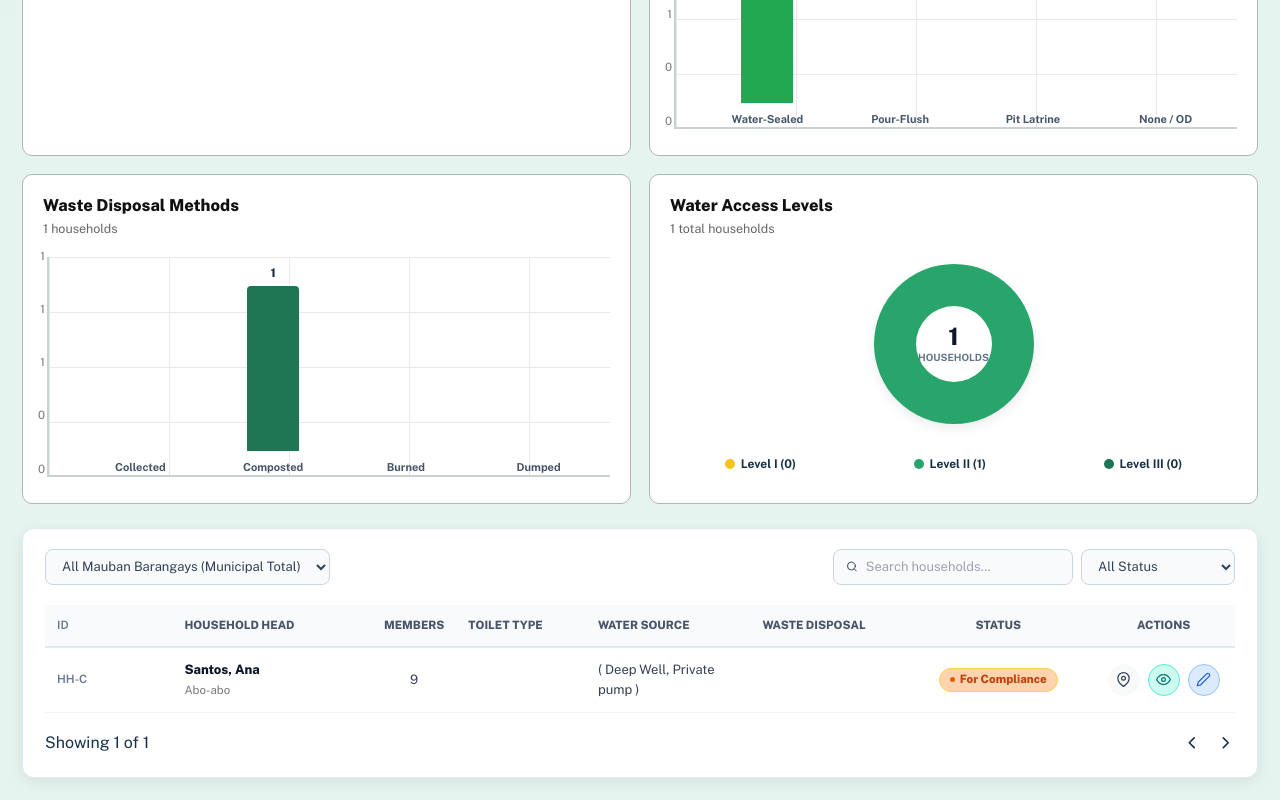
legacy water_sealed applicable transition requires replacement
The width and height of the screenshot is (1280, 800).
(page scrolled)
Click the button titled "Edit Household Record": x=1204, y=680 [1188,664,1220,696]
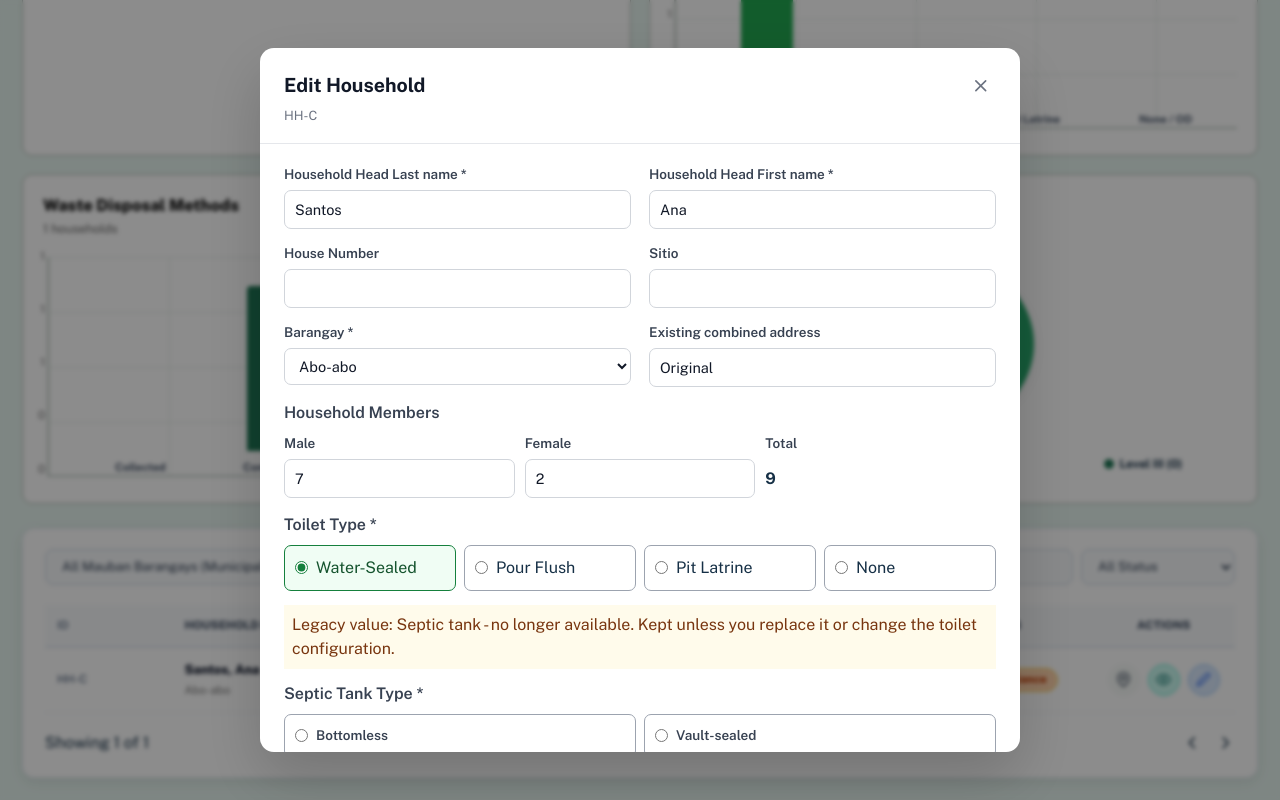
Click the radio button labelled "Pour Flush": x=482, y=568 [475,561,488,574]
(page scrolled)
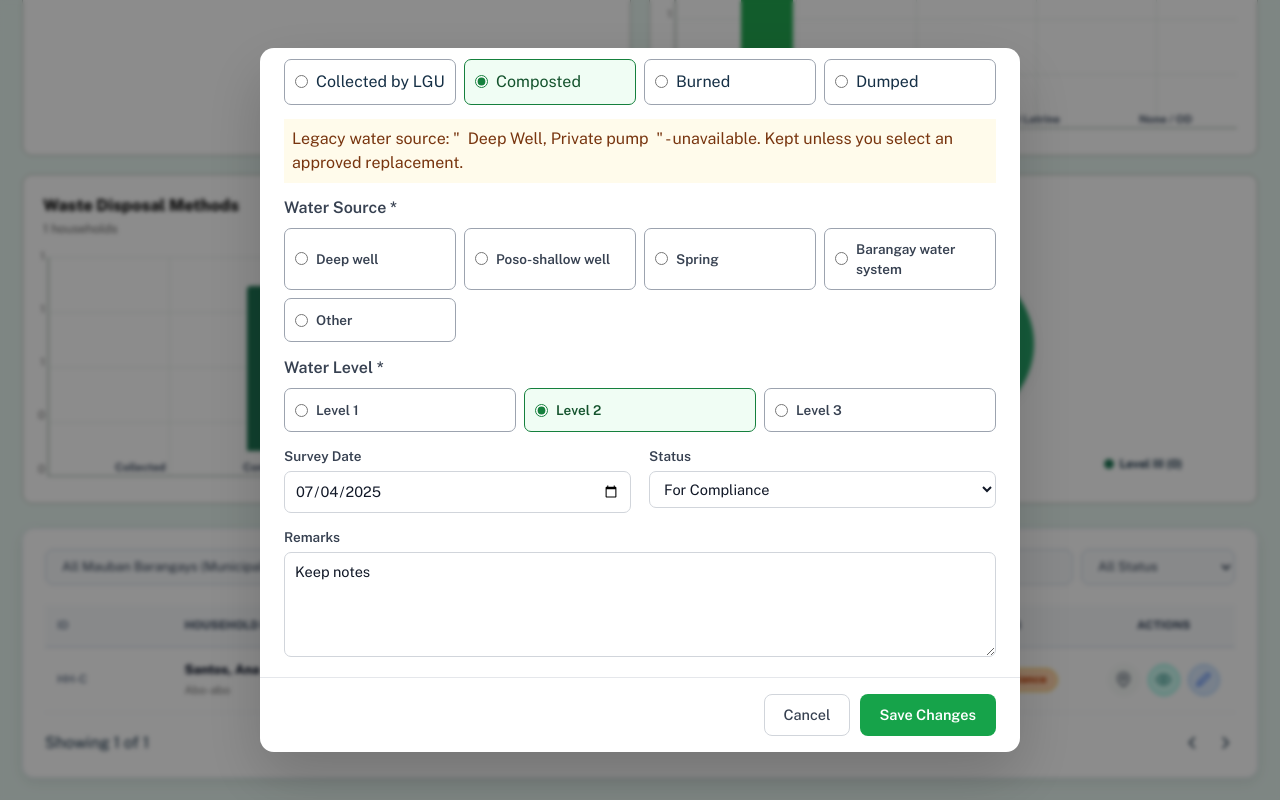
Click the button "Save Changes": x=928, y=715 [860,694,996,736]
(page scrolled)
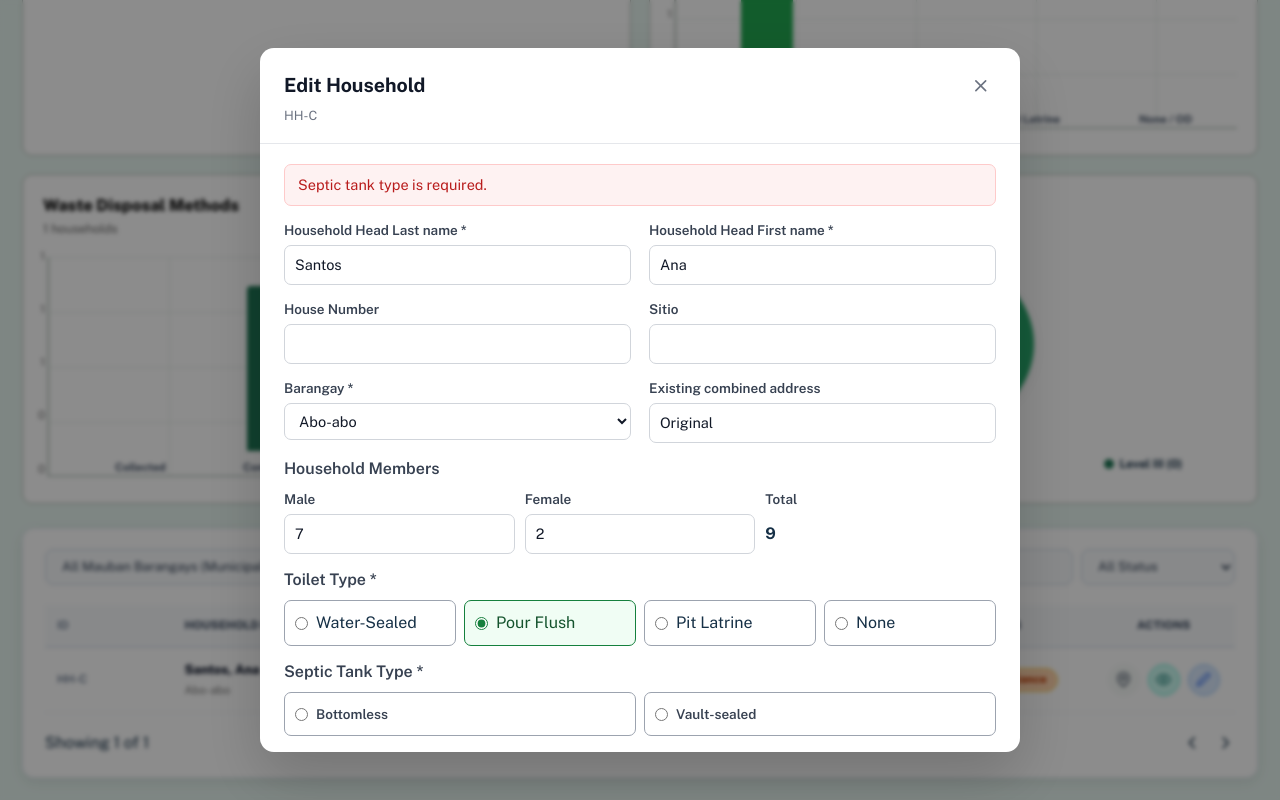
Expected: the text "Septic tank type is required." is shown, [284,164,996,206]
